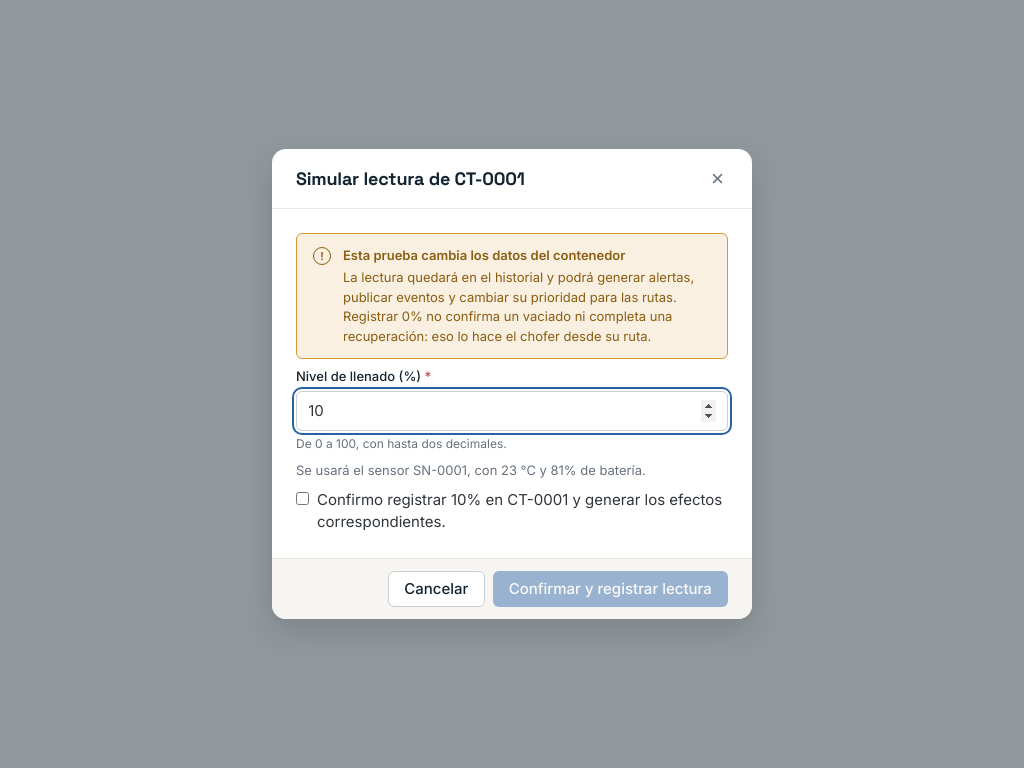
Test case: Simular lectura › cambiar el porcentaje invalida la confirmacion anterior
Click the checkbox. click: click(302, 499)
box: [296,492,309,505]
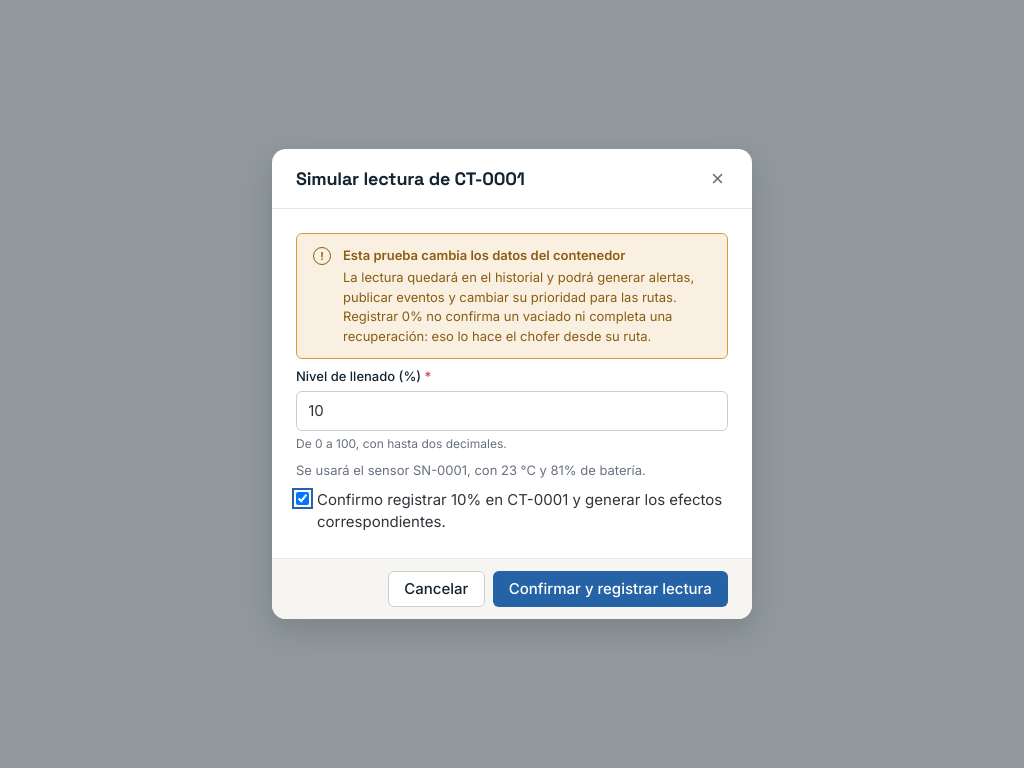
Replace the text in the number field labelled "Nivel de llenado (%) *" with "90". click: (512, 411)
box: [296,391,728,431]
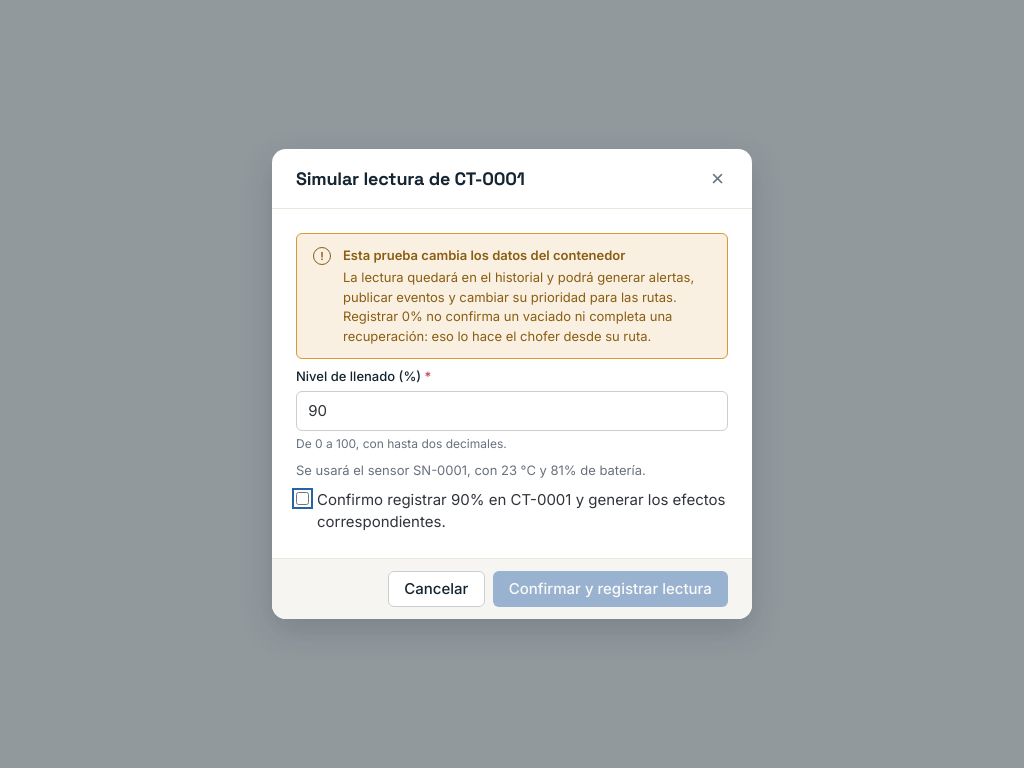
expect the checkbox is not checked: met, box [296,492,309,505]
expect the button "Confirmar y registrar lectura" is disabled: met, box [492,571,728,607]
